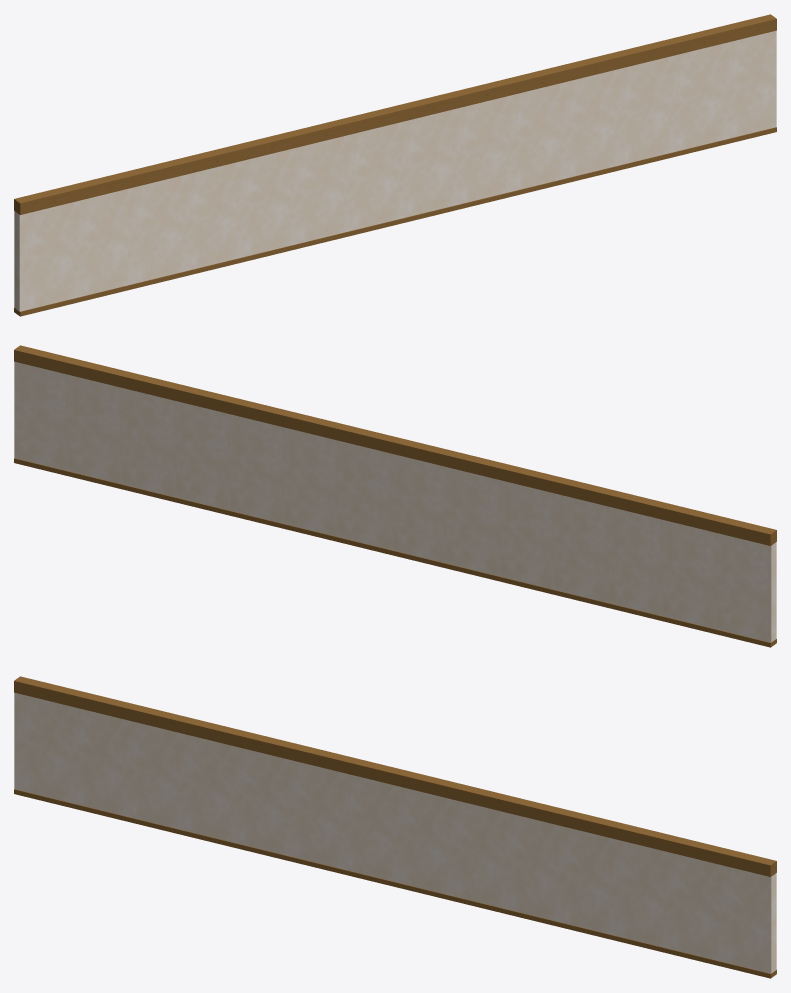
Rendered from wall_14.fbx.
3 views of the same model, one above another, from view 1: azimuth 30°, elevation 25°; view 2: azimuth 150°, elevation 25°; view 3: azimuth 330°, elevation 25° (orthographic).
Visible parts, largest first — view 1: wall14; view 2: wall14; view 3: wall14.
Part boxes in pixels (x1,y1,x2,y2): wall14: (14,14,776,316); wall14: (14,345,776,647); wall14: (14,676,776,978).
Size of the model in its own units: 1400 by 200 by 20.
